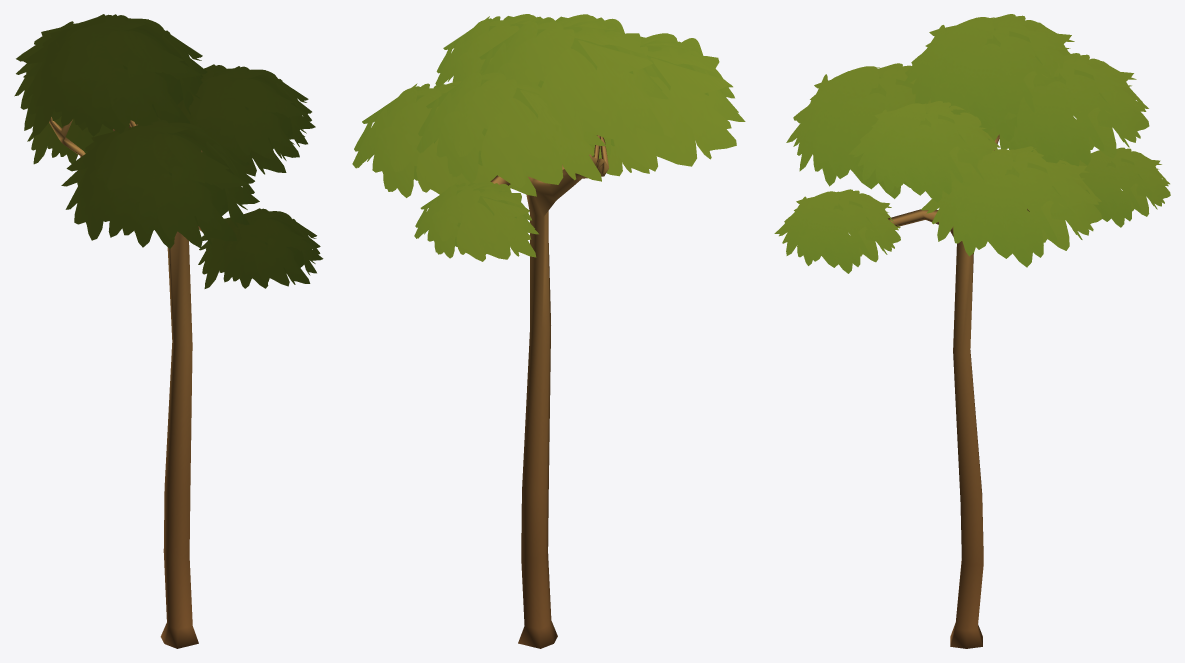
File: MDL_Tree_01.fbx
3 renders of one model, left to right at view 1: azimuth 30°, elevation 25°; view 2: azimuth 150°, elevation 25°; view 3: azimuth 270°, elevation 25°, orthographic. The views are drawn at different scales.
Parts seen in each view (by area): view 1: Leaves_A, Tree_A; view 2: Leaves_A, Tree_A; view 3: Leaves_A, Tree_A.
Part boxes in pixels (<box>): Leaves_A: <box>14,14,323,288</box>; Tree_A: <box>49,117,202,648</box>; Leaves_A: <box>352,14,745,261</box>; Tree_A: <box>490,135,608,648</box>; Leaves_A: <box>774,14,1170,273</box>; Tree_A: <box>888,134,1029,648</box>.
Size of the model in its own units: 1964 by 4060 by 2440.
